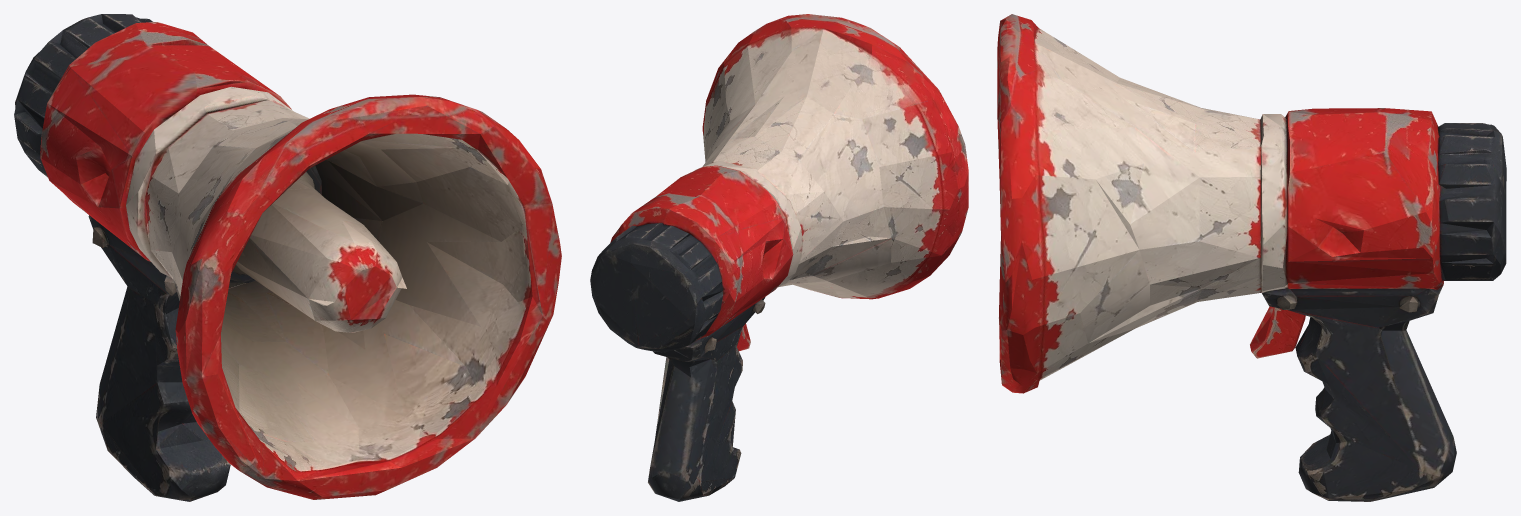
The model's file is megaphone.glb.
The picture shows the model from 3 angles, left to right: view 1: azimuth 30°, elevation 25°; view 2: azimuth 150°, elevation 25°; view 3: azimuth 270°, elevation 25°; orthographic projection. The views are drawn at different scales.
Bounding box in the file's own units: 0.3705 × 0.5 × 0.4998.
Materials: 1 (1 with a texture image).
